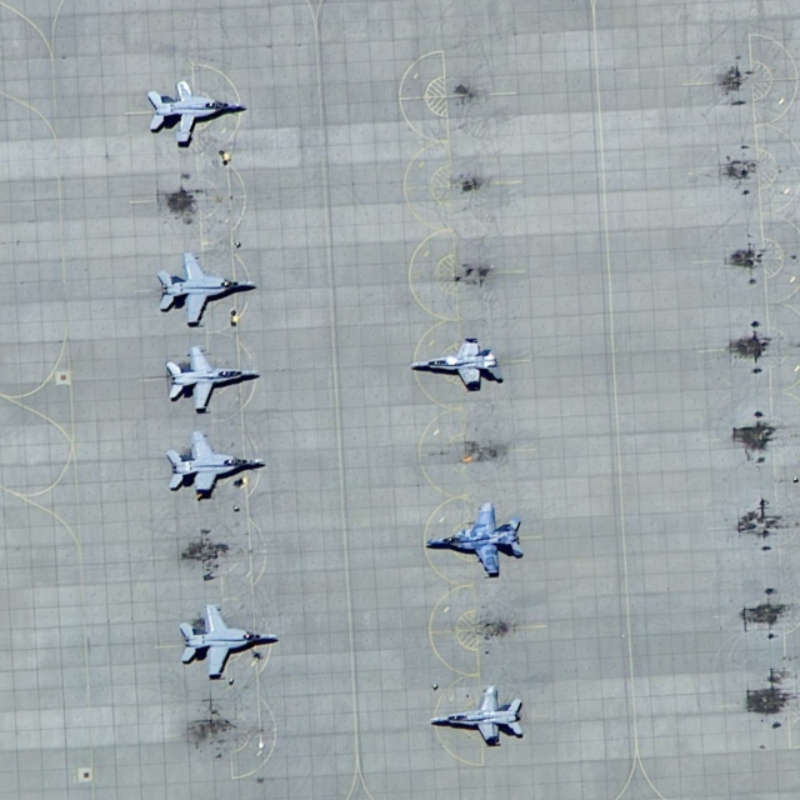A16: (150, 250, 262, 332), (420, 498, 528, 582), (176, 601, 282, 684), (161, 342, 263, 419), (142, 78, 250, 150), (161, 428, 269, 500), (425, 683, 530, 751), (407, 335, 508, 393)
